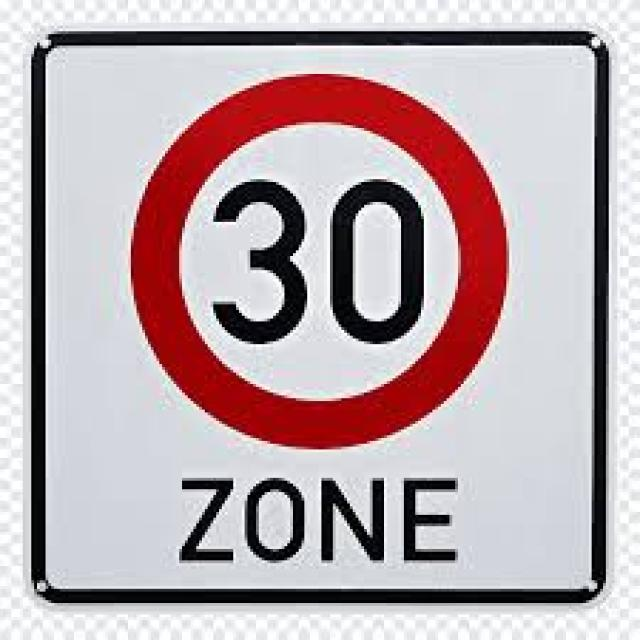Speed limit 30: (126, 67, 513, 451)
